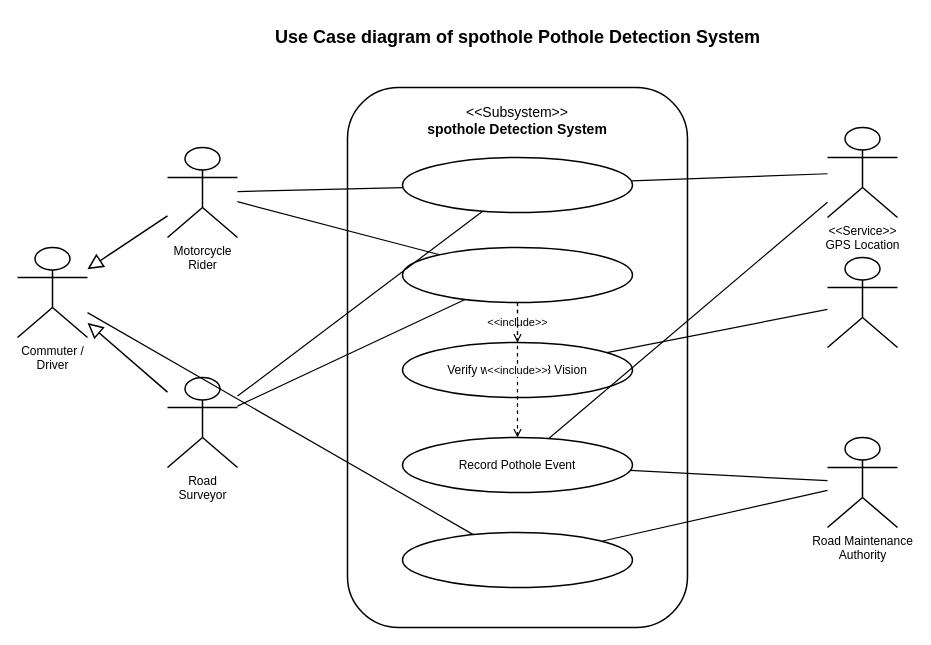
This 931x645 diagram has some shape labels left out. The shapes that lost their labels are listed below. From the top down, each one's centre as x and y in pixels, then its label:
the point at 517,184: Start Road Monitoring
the point at 517,274: Detect Road Anomaly
the point at 862,302: <<Service>> CameraX Engine
the point at 517,559: View Pothole Hazard Map
